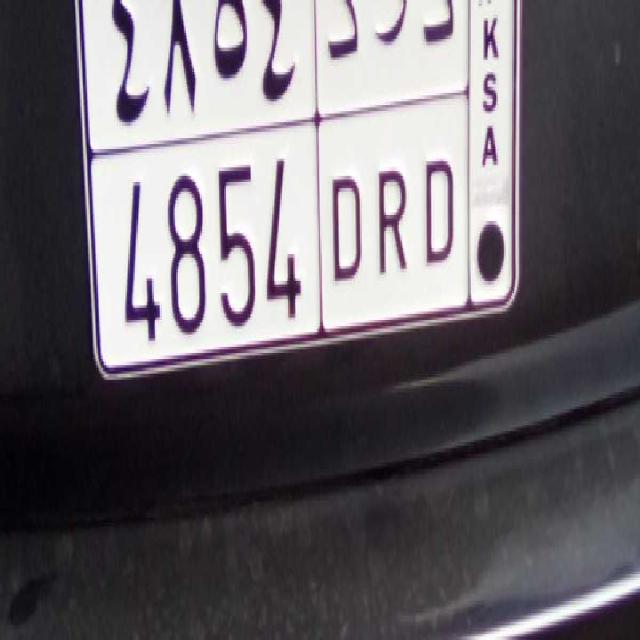license_plate: (108, 134, 464, 364)
